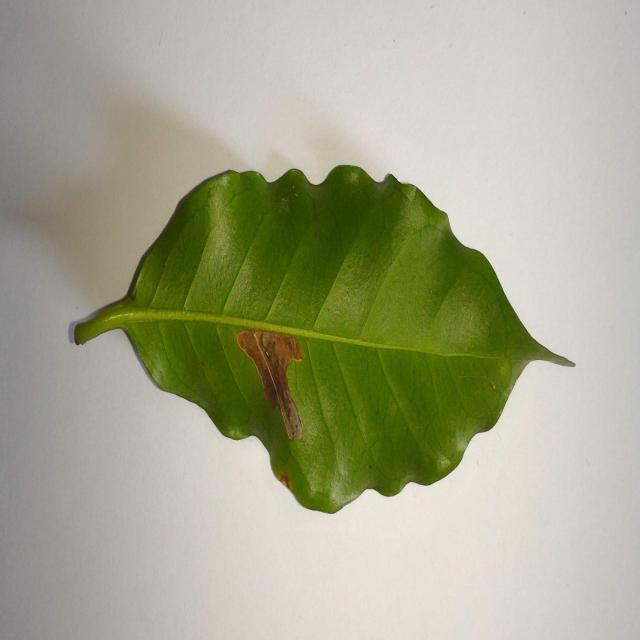Plaga-Minador: (68, 166, 572, 516)
